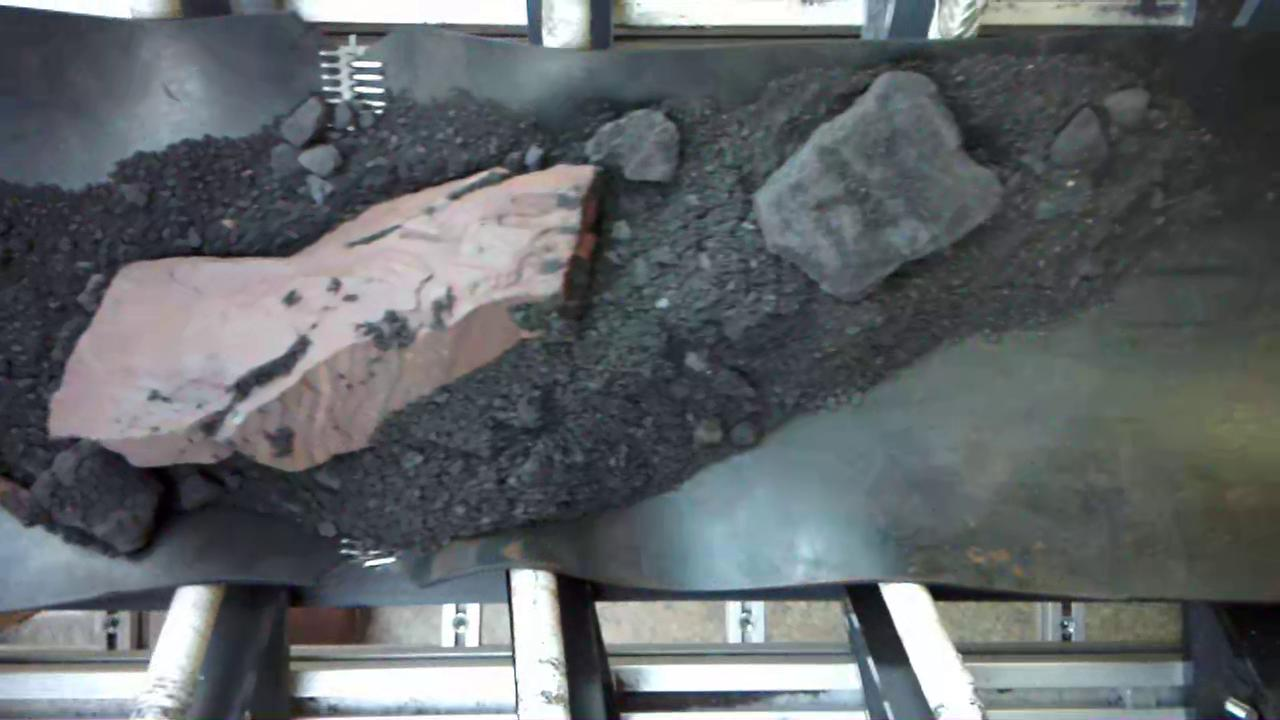conveyor: (3, 45, 1280, 578)
